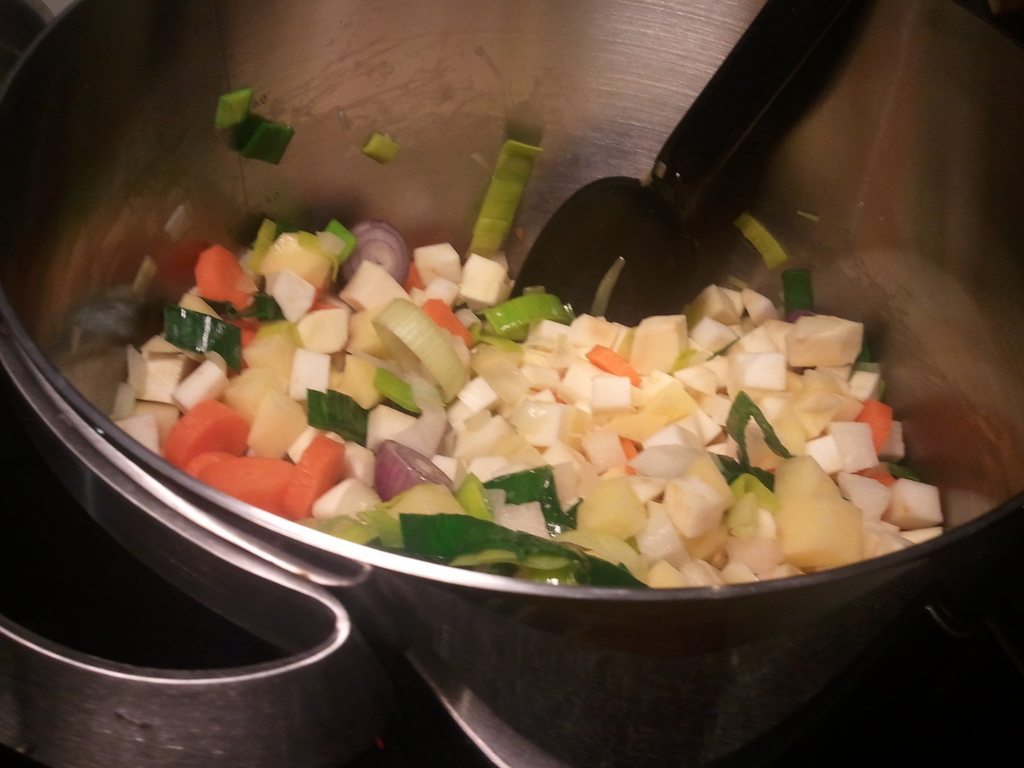salad: (100, 133, 946, 596)
